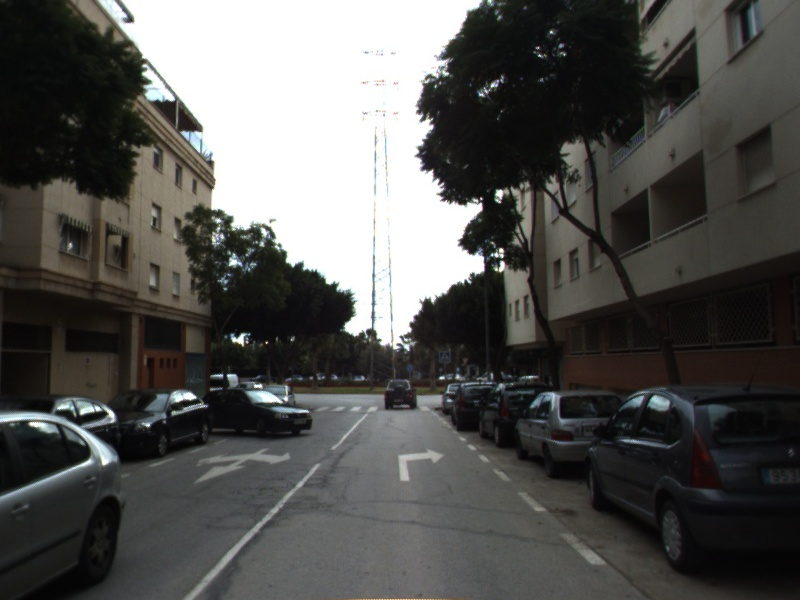RIGHT: (396, 446, 447, 483)
